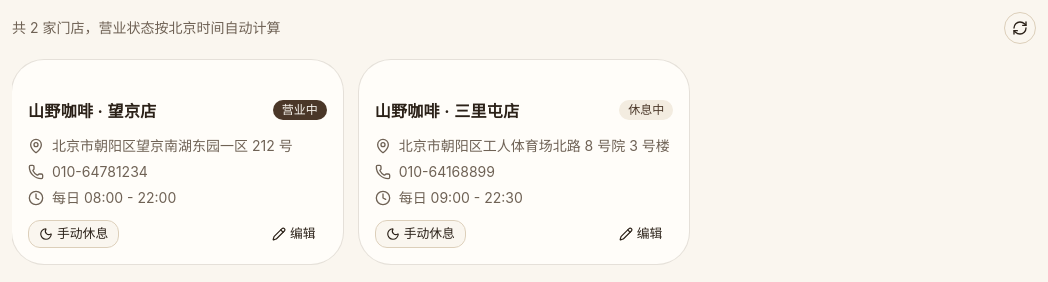
Test case: StoresPage › 手动休息 / 恢复营业提交 manualClosed
The image size is (1048, 282).
Expected: the heading "山野咖啡 · 望京店" is shown, [28,100,156,124]
Expected: the icon "营业中" is shown, [273,100,327,120]
Click the button "手动休息" below "08:00". click: (74, 234)
box: [28,220,119,248]
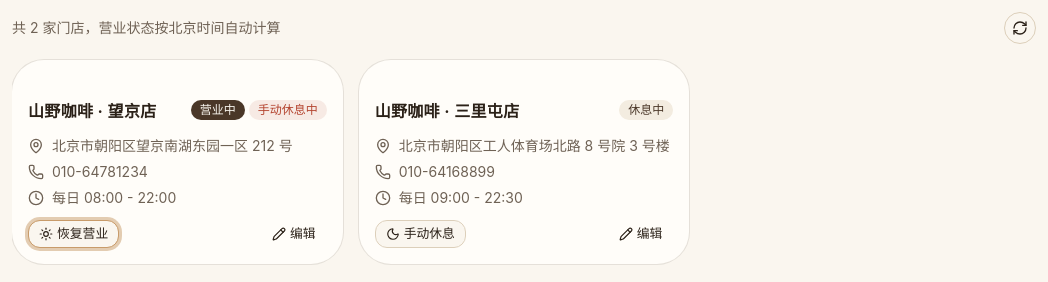
Expected: the button "恢复营业" is shown, [28,220,119,248]
